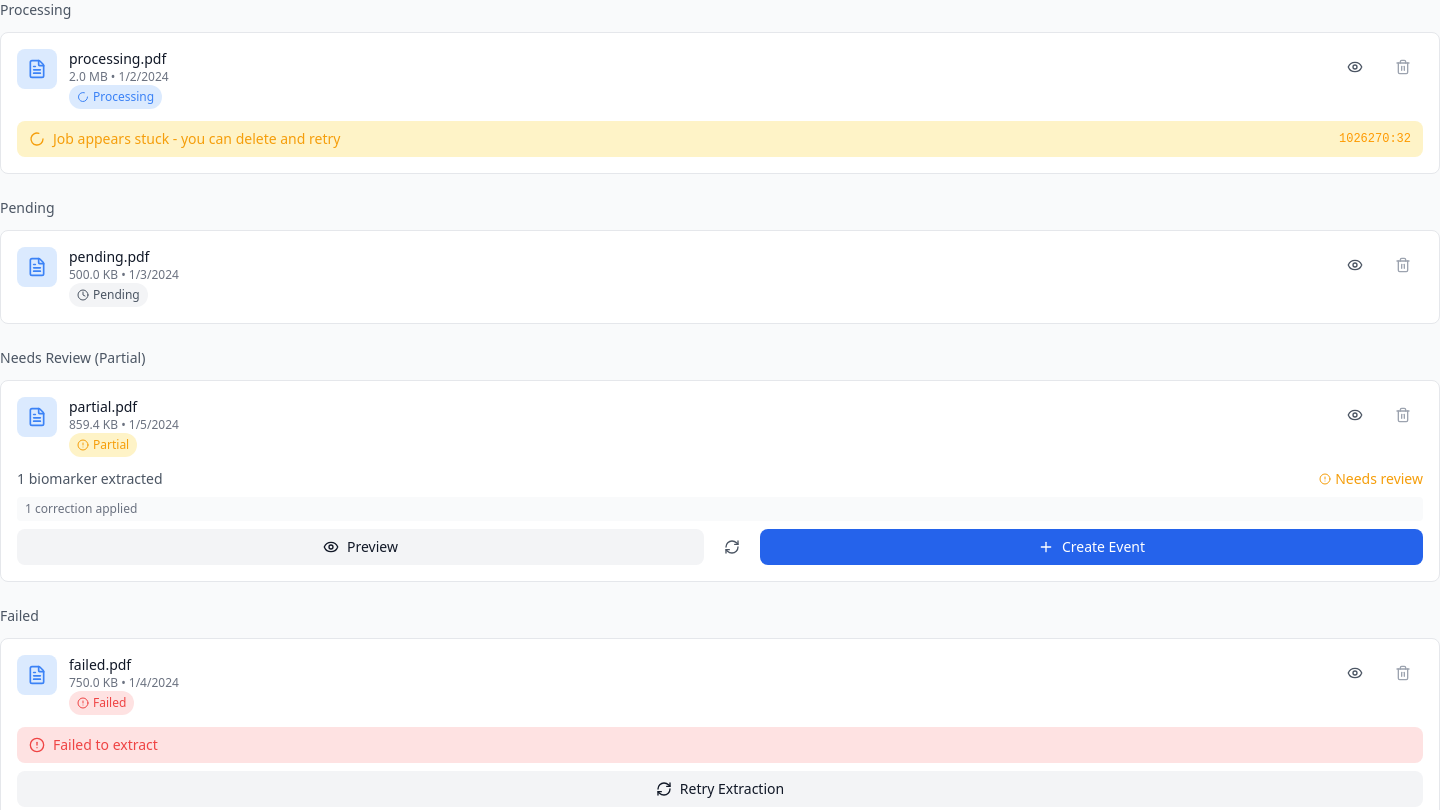
LabUploadList › closes preview modal when Close is clicked
The image size is (1440, 810).
Open preview - multiple Preview buttons exist
Click the button "Preview". click: click(360, 547)
box: left=17, top=529, right=704, bottom=565
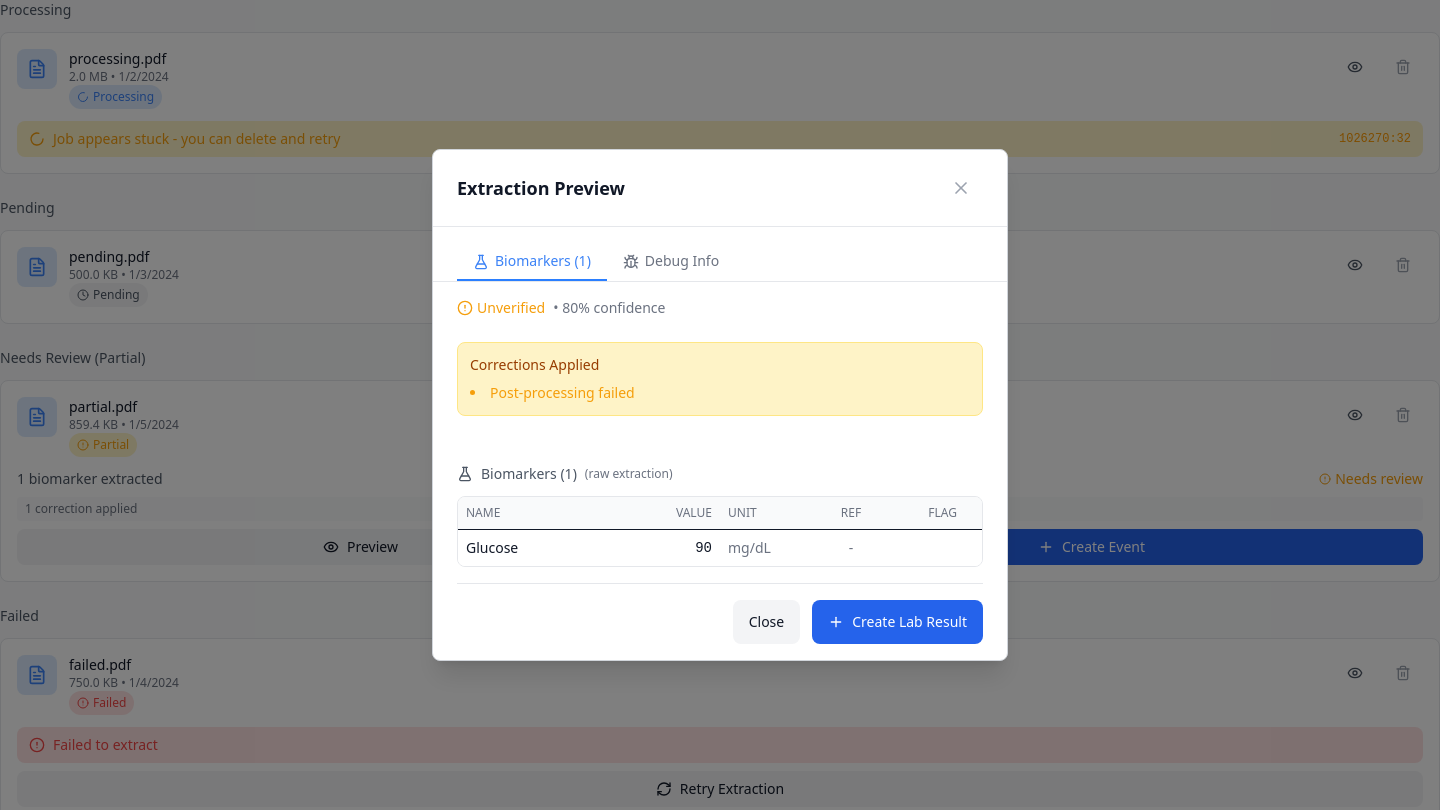
Check: the heading "Extraction Preview" is shown, box left=457, top=174, right=625, bottom=202
Close preview - get all buttons named Close and click the one in the modal footer
Click the button "Close". click: click(766, 622)
box: left=733, top=600, right=800, bottom=644
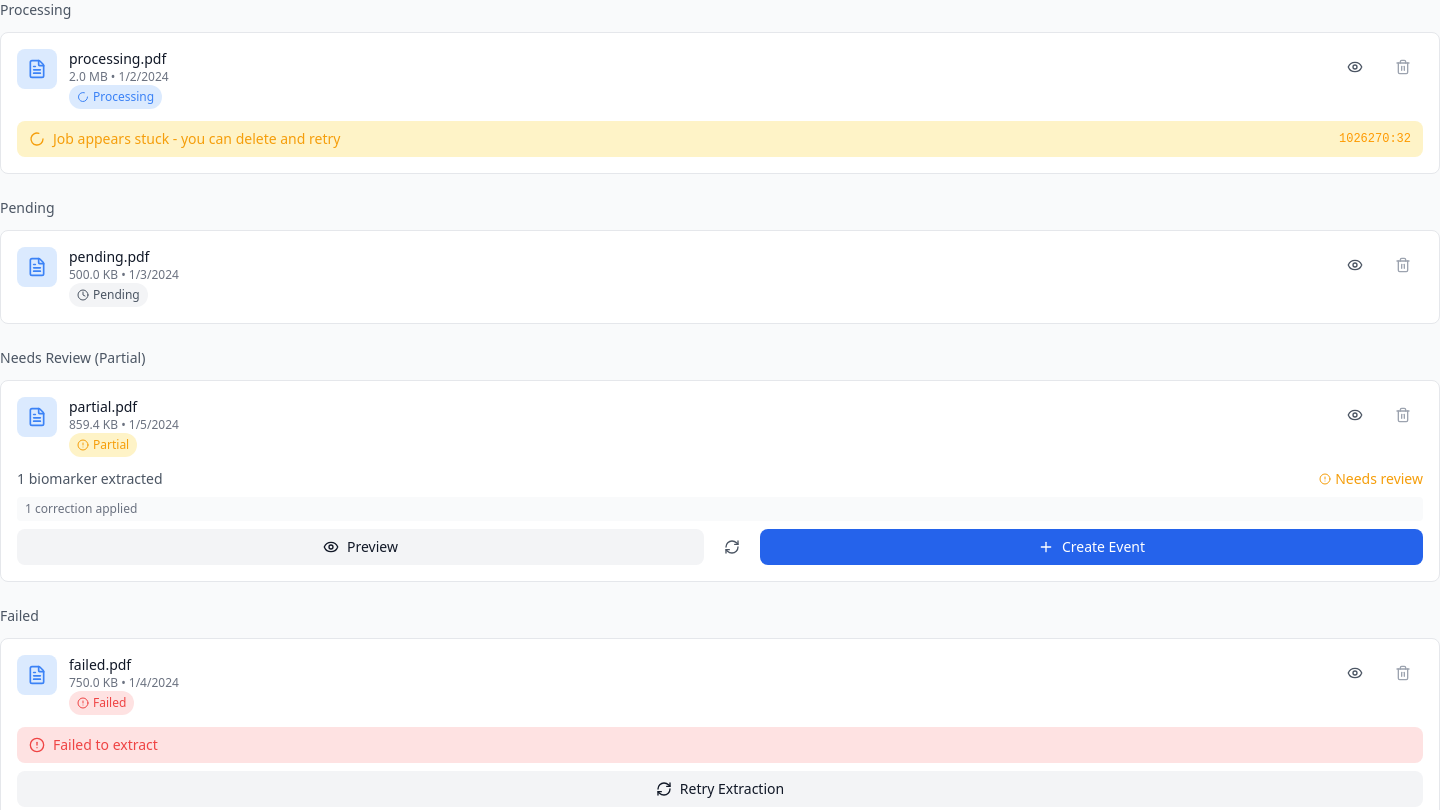
Check: the heading "Extraction Preview" is gone
